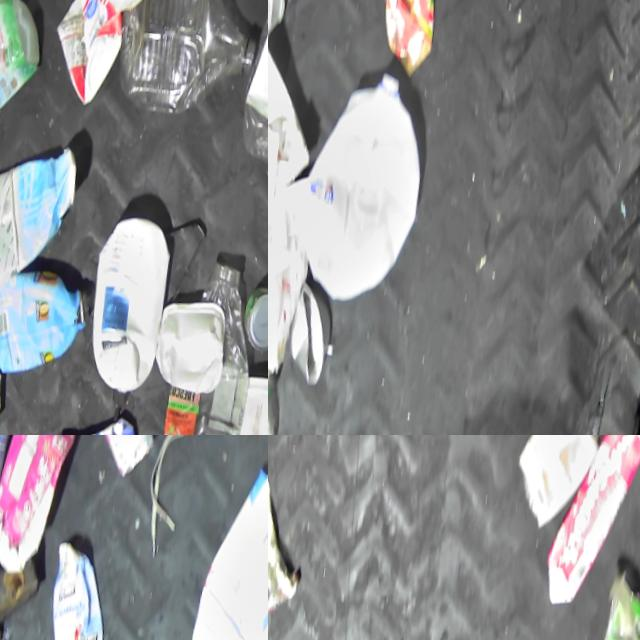can: (279, 280, 336, 391), (236, 285, 268, 362)
milk_jug: (268, 61, 434, 312), (81, 208, 177, 397), (177, 459, 268, 640)
non_white_jug: (0, 435, 95, 582), (0, 141, 78, 294), (0, 265, 82, 381), (38, 537, 115, 640), (0, 0, 47, 142), (42, 409, 153, 435)
plastic_bottle: (110, 0, 257, 124), (236, 0, 268, 175), (268, 538, 288, 633)
